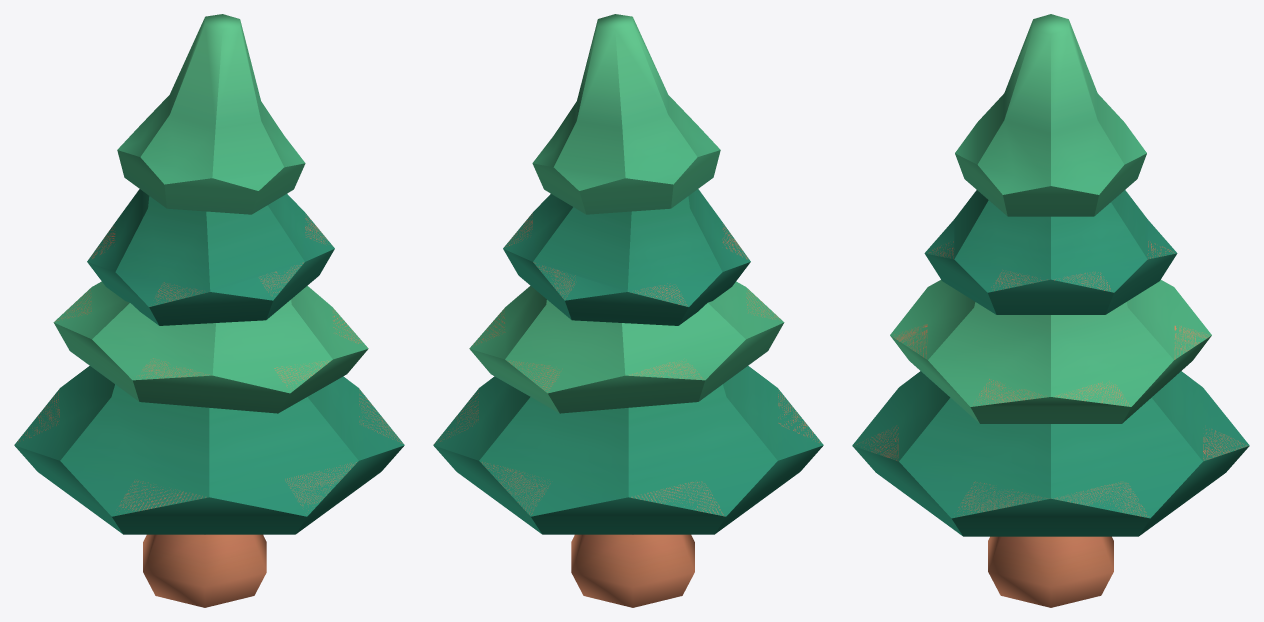
The model's file is dead_a.glb.
3 views of the same model, side by side, from view 1: azimuth 30°, elevation 25°; view 2: azimuth 150°, elevation 25°; view 3: azimuth 270°, elevation 25° (orthographic).
Visible parts, largest first — view 1: pine-crooked; view 2: pine-crooked; view 3: pine-crooked.
Boxes of the visible parts, box(x1,y1,x2,y2) form: pine-crooked: box(14, 14, 404, 607); pine-crooked: box(433, 14, 823, 607); pine-crooked: box(852, 14, 1249, 607).
Bounding box in the file's own units: 1.18 × 2.11 × 1.33.
Materials: 1 (1 with a texture image).
